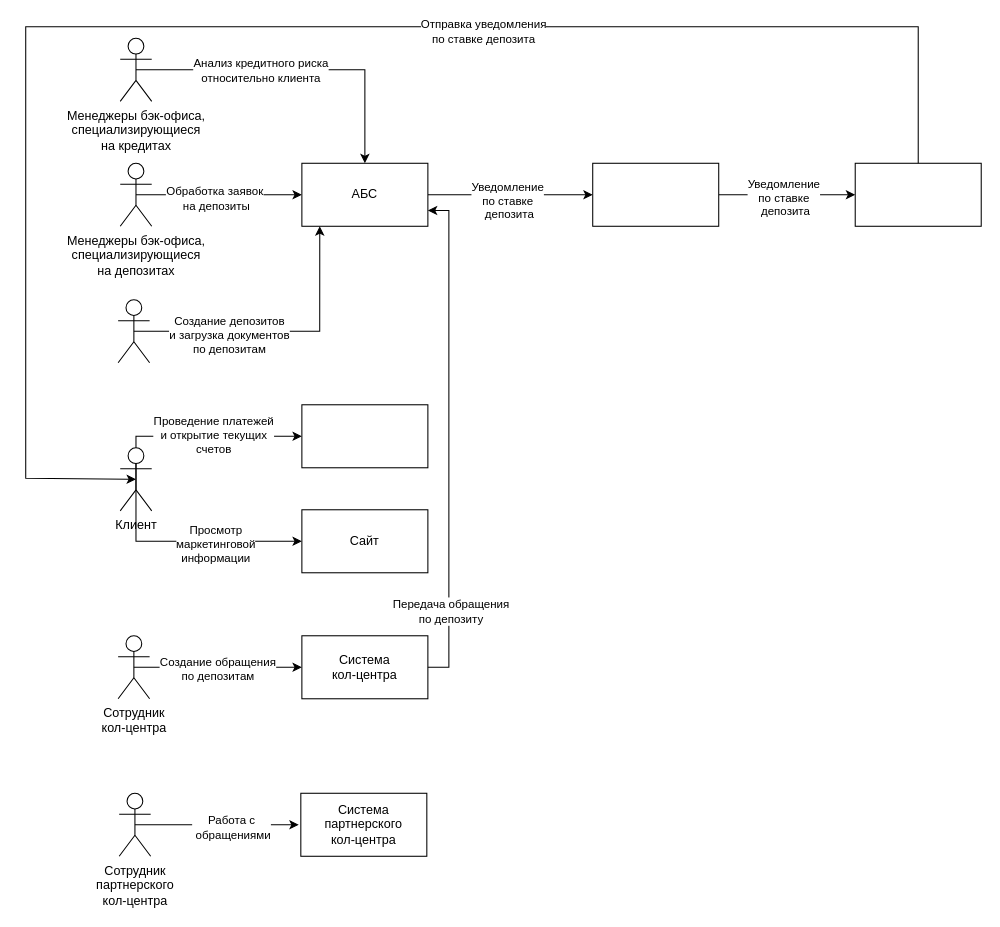
The diagram is 1000 pixels wide and 927 high, and some of its shapes have lost their labels. Each missing label, with the centre of its shape:
Интернет-банк: pixel 364 436
Менеджеры фронт-офиса: pixel 133 331
СМС-шлюз телеком-оператора: pixel 655 194
Телеком-оператор: pixel 917 194
